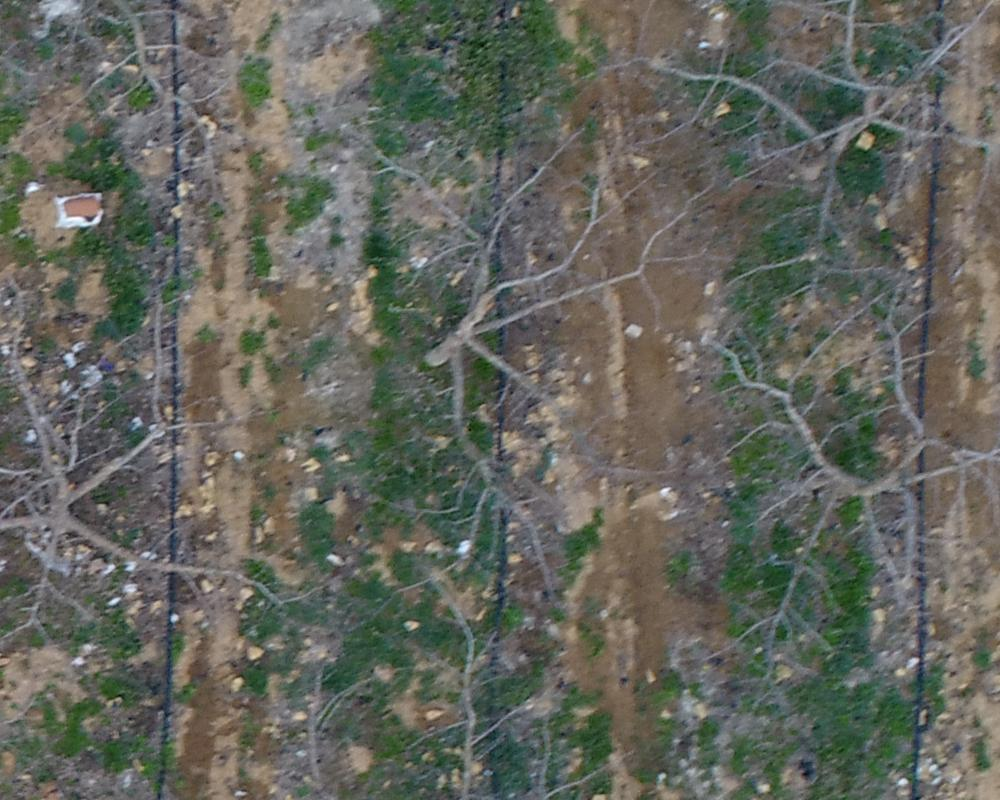apple: (350, 111, 714, 600), (700, 256, 990, 677), (10, 277, 323, 648), (302, 572, 795, 790), (603, 10, 990, 245)
